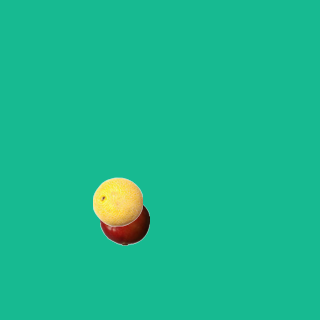Apple Braeburn: (99, 195, 149, 245)
Cantaloupe 1: (92, 176, 142, 226)
